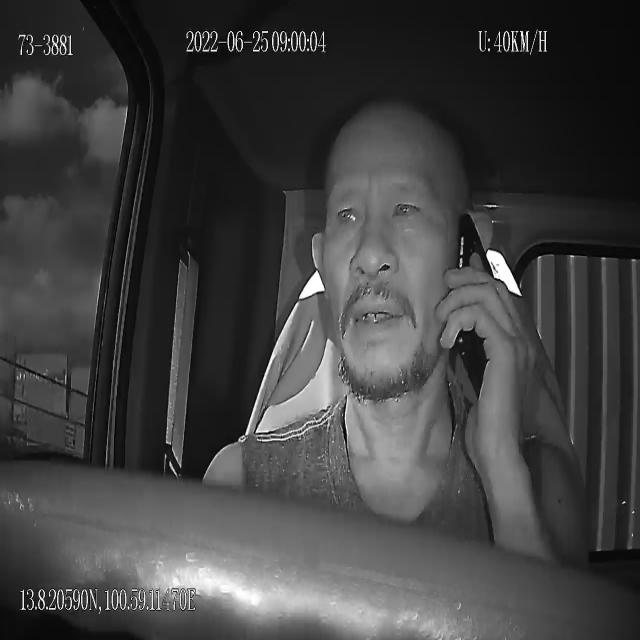phone: (453, 207, 498, 405)
